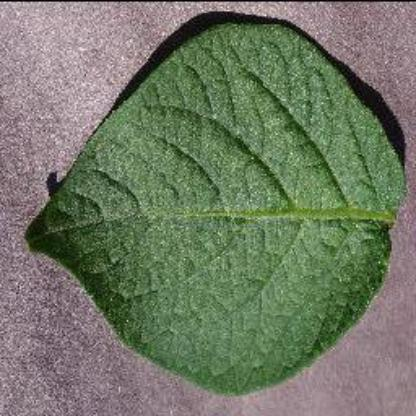Healthy-plant: (24, 16, 413, 394)
